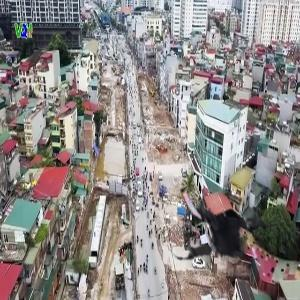drone: (158, 157, 285, 284)
